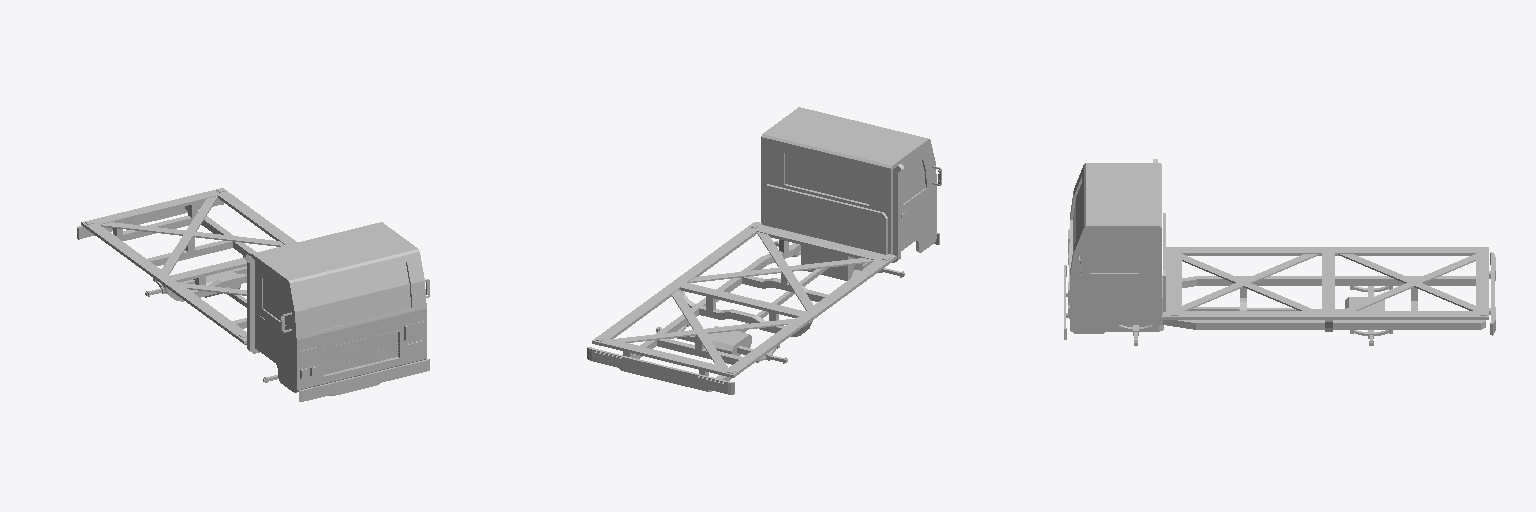
File: truck.obj
The picture shows the model from 3 angles: view 1: azimuth 30°, elevation 25°; view 2: azimuth 150°, elevation 25°; view 3: azimuth 270°, elevation 25°; orthographic projection.
Parts seen in each view (by area): view 1: cube, glass, rightdoor, hibeam&HeadLight_fcf0d5_fffff_000; view 2: cube, glass, rightdoor; view 3: cube, leftdoor.
Boxes of the visible parts, box(x1,y1,x2,y2) form: cube: box(77, 188, 429, 401); glass: box(305, 262, 410, 332); rightdoor: box(259, 272, 289, 359); hibeam&HeadLight_fcf0d5_fffff_000: box(303, 322, 424, 368); cube: box(587, 107, 941, 394); glass: box(785, 153, 868, 203); rightdoor: box(901, 154, 930, 237); cube: box(1064, 159, 1495, 339); leftdoor: box(1083, 238, 1145, 304).
Bounding box in the file's own units: 3.28 × 2.66 × 8.28.